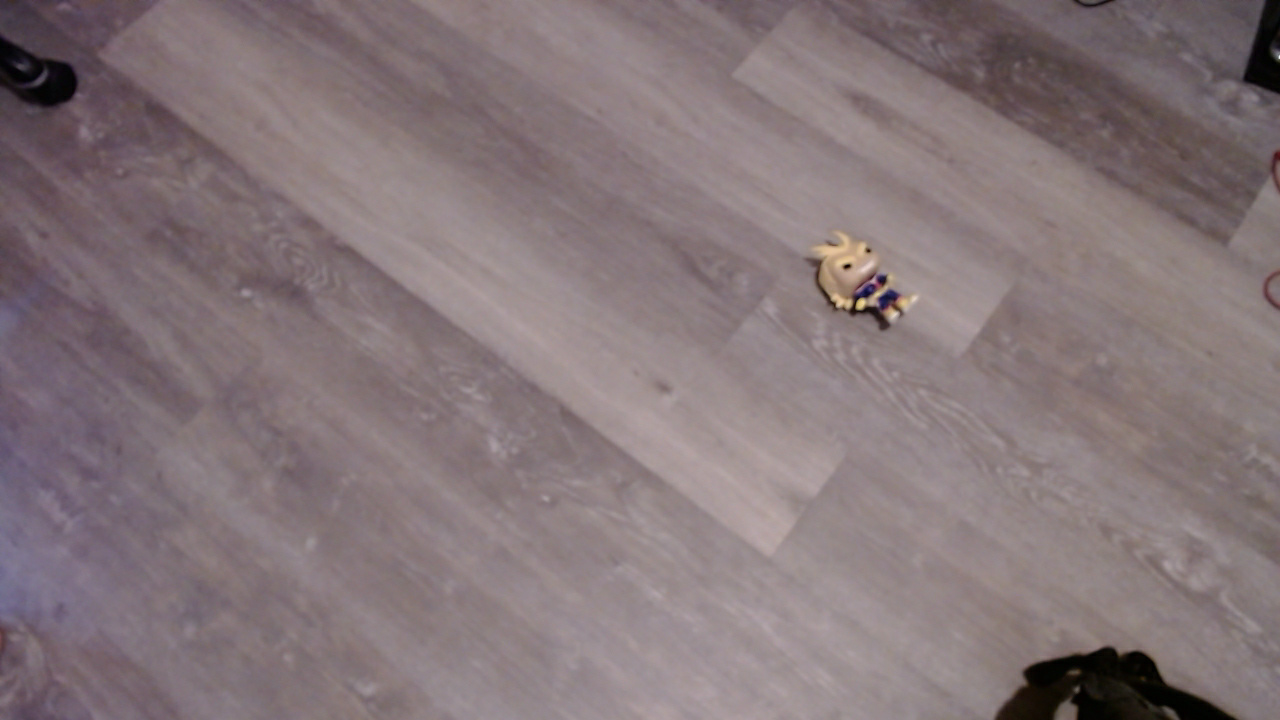all_might: (808, 232, 944, 340)
